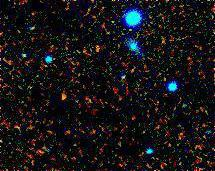star: (49, 84, 79, 114)
